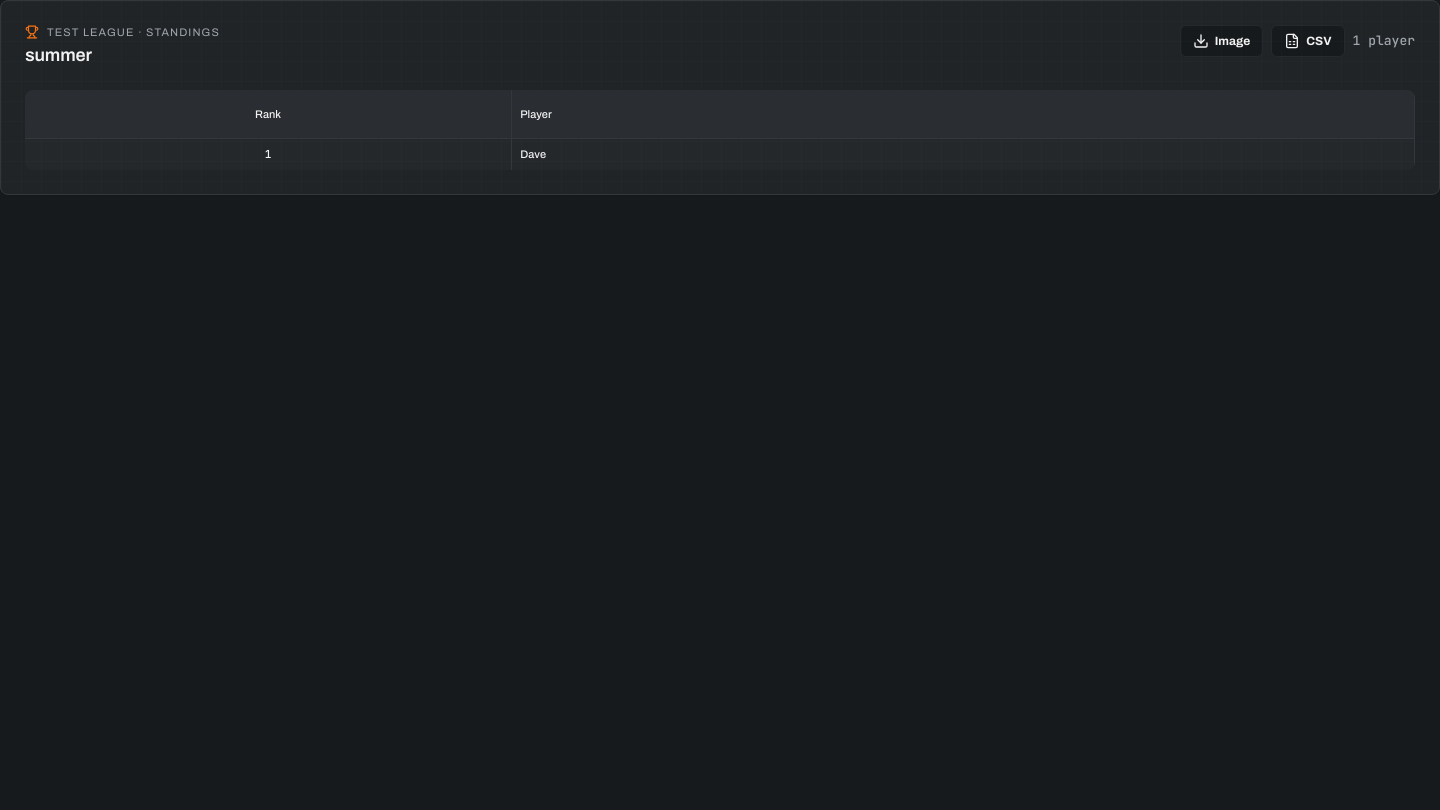
Test: Rename is offered on the director console only › on a console that holds control
This screenshot has width=1440, height=810.
Click the row titled "See Dave's season game by game" at (720, 154), box [25,138,1414,170]
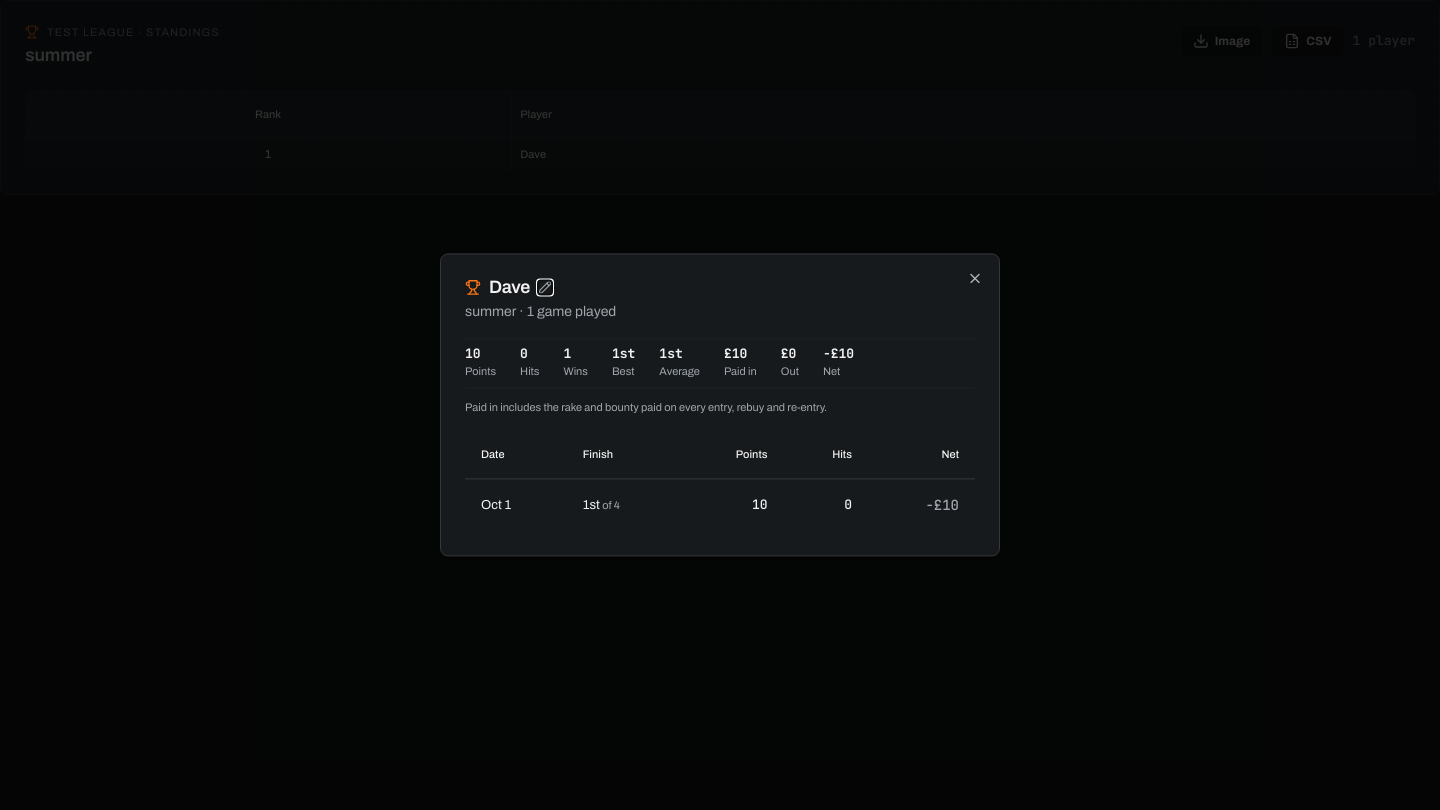
Expected: the button named "Rename Dave" is shown, [538,280,552,294]
